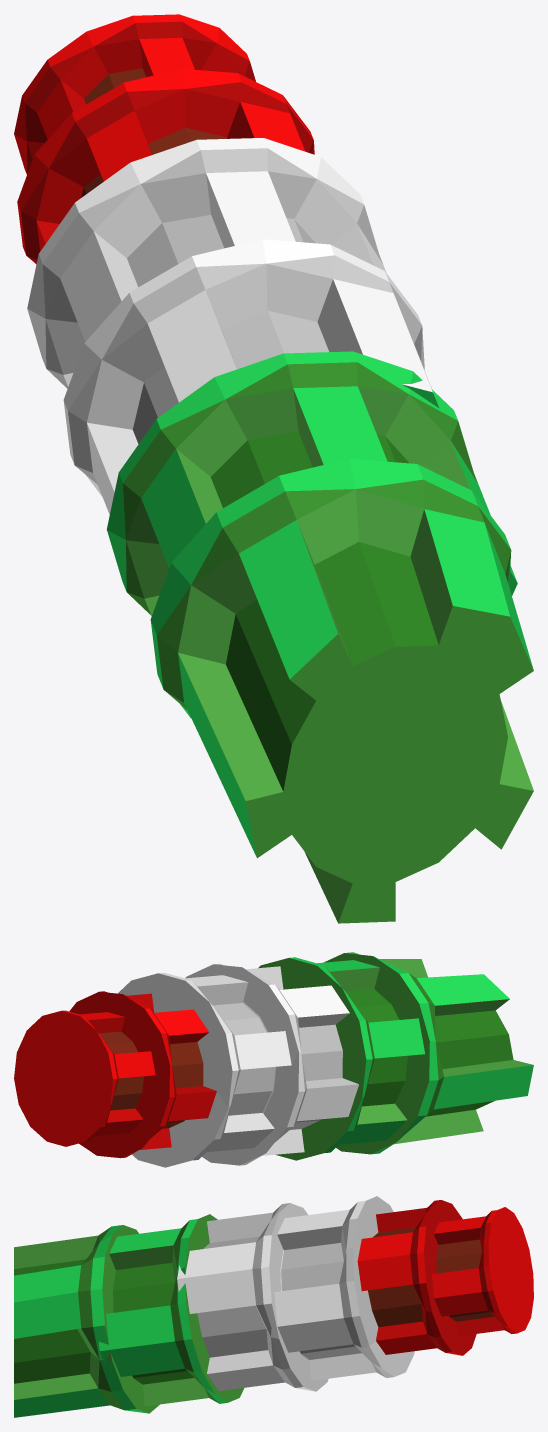
Rendered from pisa_italy.fbx.
3 views of the same model, one above another, from view 1: azimuth 30°, elevation 25°; view 2: azimuth 150°, elevation 25°; view 3: azimuth 270°, elevation 25° (orthographic). The views are drawn at different scales.
Parts seen in each view (by area): view 1: pisa_winter.001; view 2: pisa_winter.001; view 3: pisa_winter.001.
Part boxes in pixels (x1,y1,x2,y2): pisa_winter.001: [14, 14, 533, 923]; pisa_winter.001: [14, 952, 533, 1167]; pisa_winter.001: [14, 1196, 533, 1417].
Size of the model in its own units: 152 by 152 by 278.
